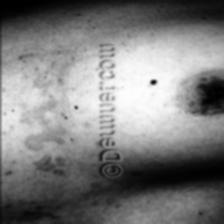Toxin: (19, 98, 67, 147), (184, 71, 224, 119), (10, 202, 58, 224), (28, 156, 64, 176)
